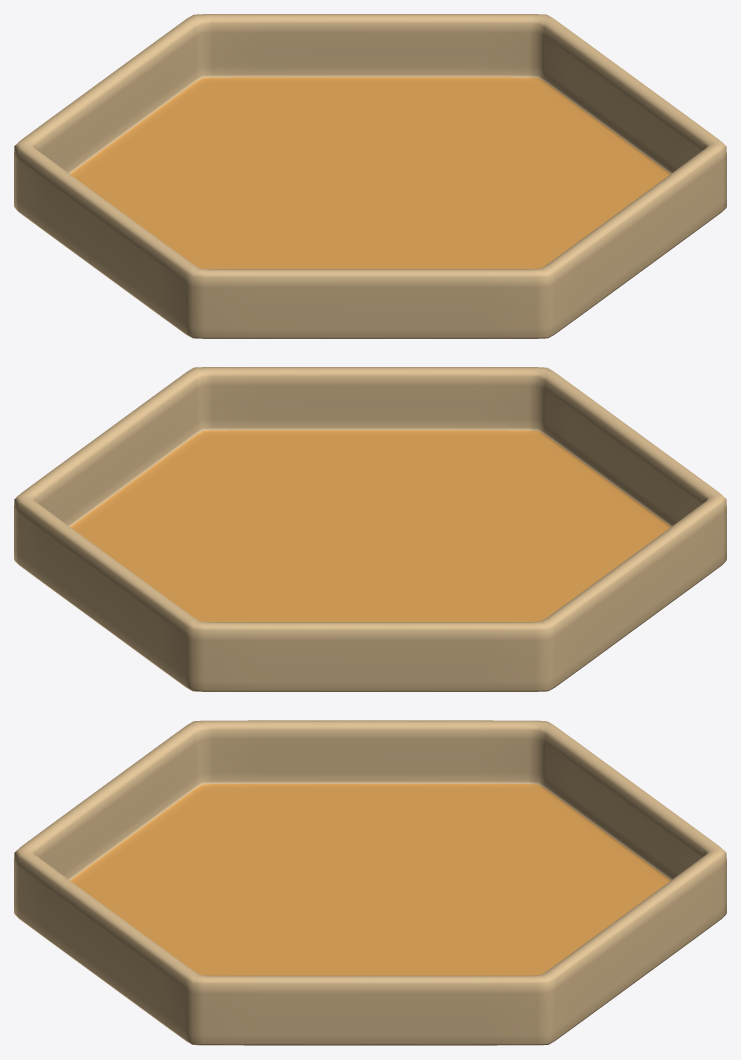
The model's file is hexagon.fbx.
The picture shows the model from 3 angles, top to bottom: view 1: azimuth 30°, elevation 25°; view 2: azimuth 150°, elevation 25°; view 3: azimuth 270°, elevation 25°; orthographic projection.
Parts seen in each view (by area): view 1: Circle; view 2: Circle; view 3: Circle.
Part boxes in pixels (box(x1,y1,x2,y2)): Circle: box(14, 14, 726, 338); Circle: box(14, 367, 726, 691); Circle: box(14, 720, 726, 1045).
Bounding box in the file's own units: 86.6 × 10.01 × 99.53.
1 material, 1 textured.
